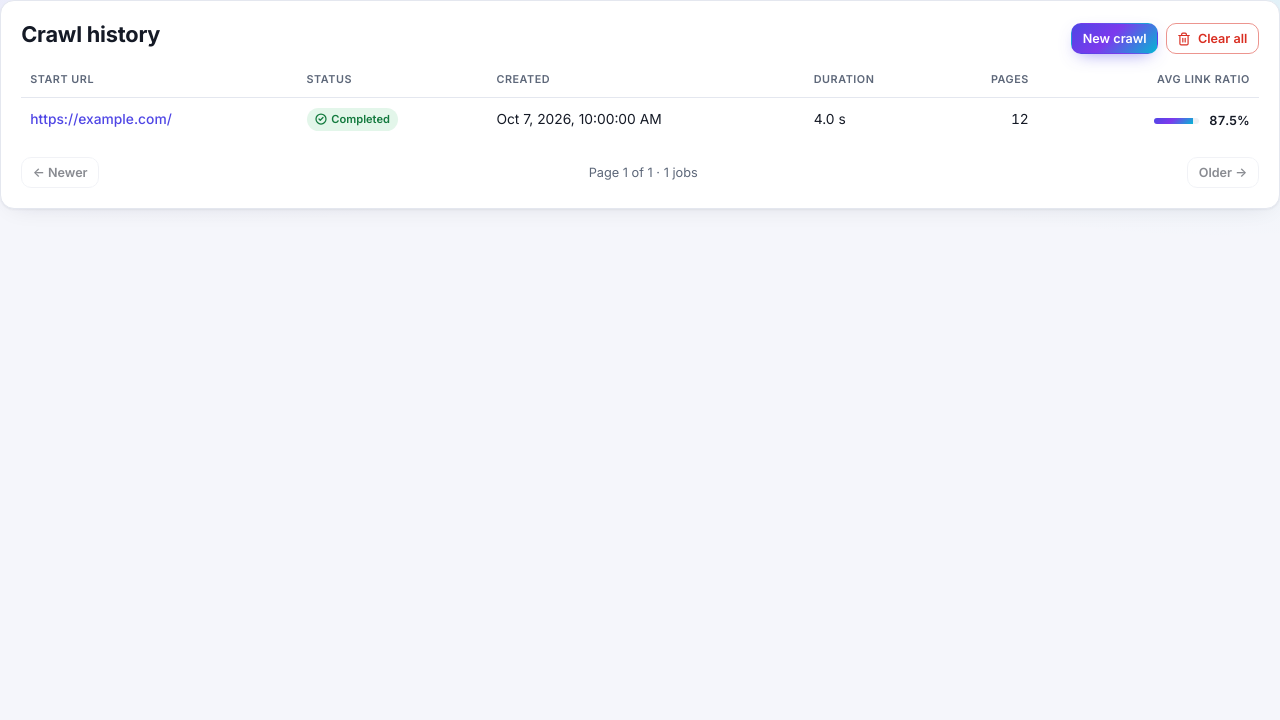
Test: HistoryPage › keeps everything when the dialog is cancelled
This screenshot has width=1280, height=720.
Check: the link "https://example.com/" is shown, box [30,111,172,127]
Click the button "Clear all" at (1212, 39), box [1166,23,1259,54]
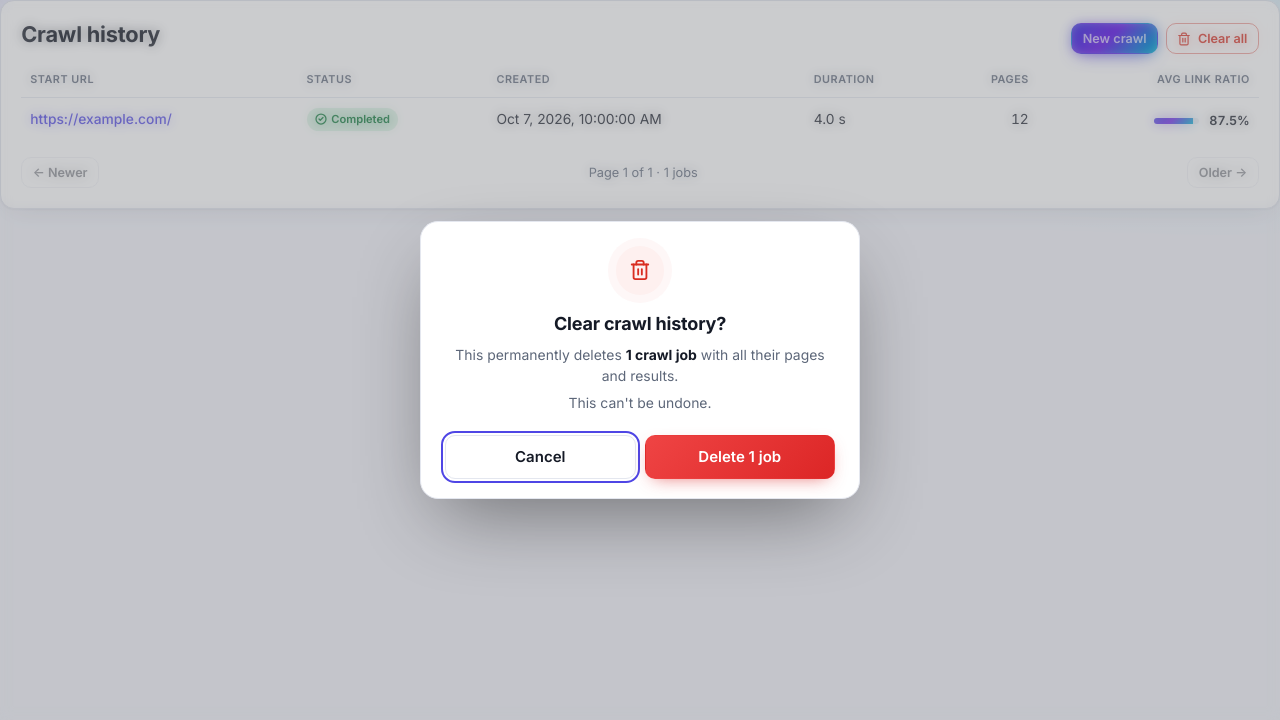
Click the button "Cancel" at (540, 457), box [445,435,636,479]
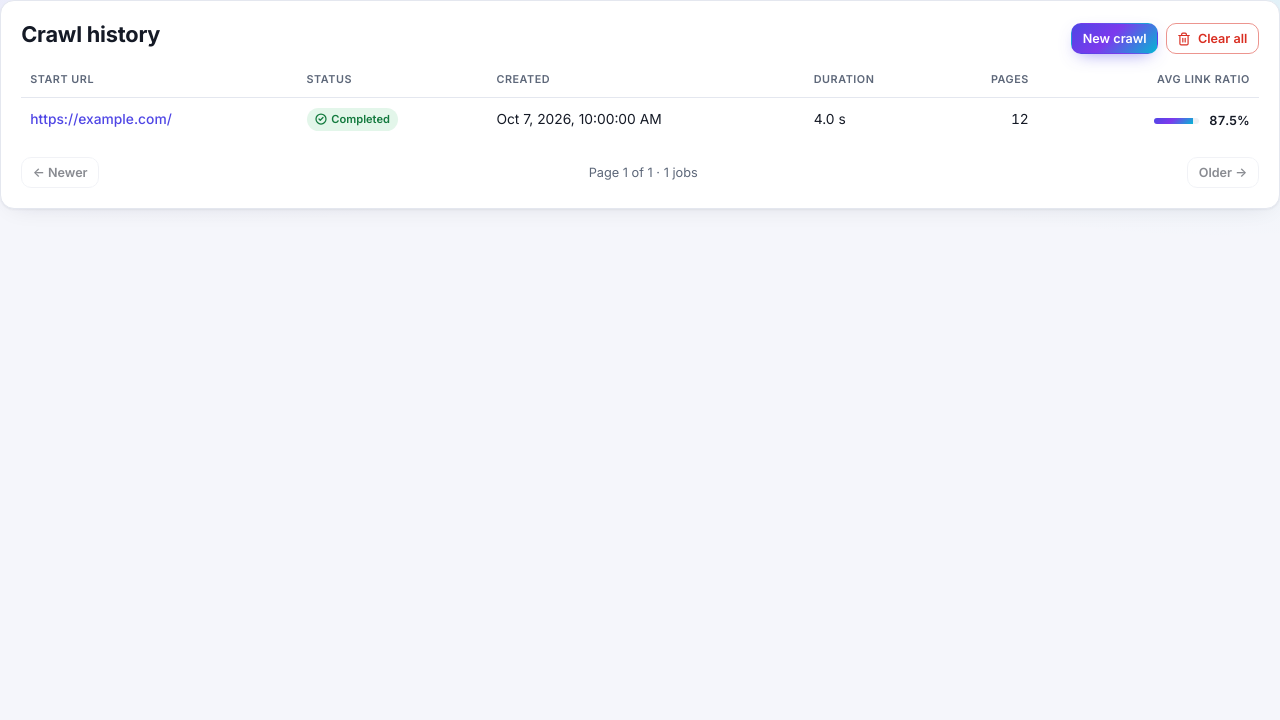
Check: the link "https://example.com/" is shown, box [30,111,172,127]
Check: the dialog is gone
